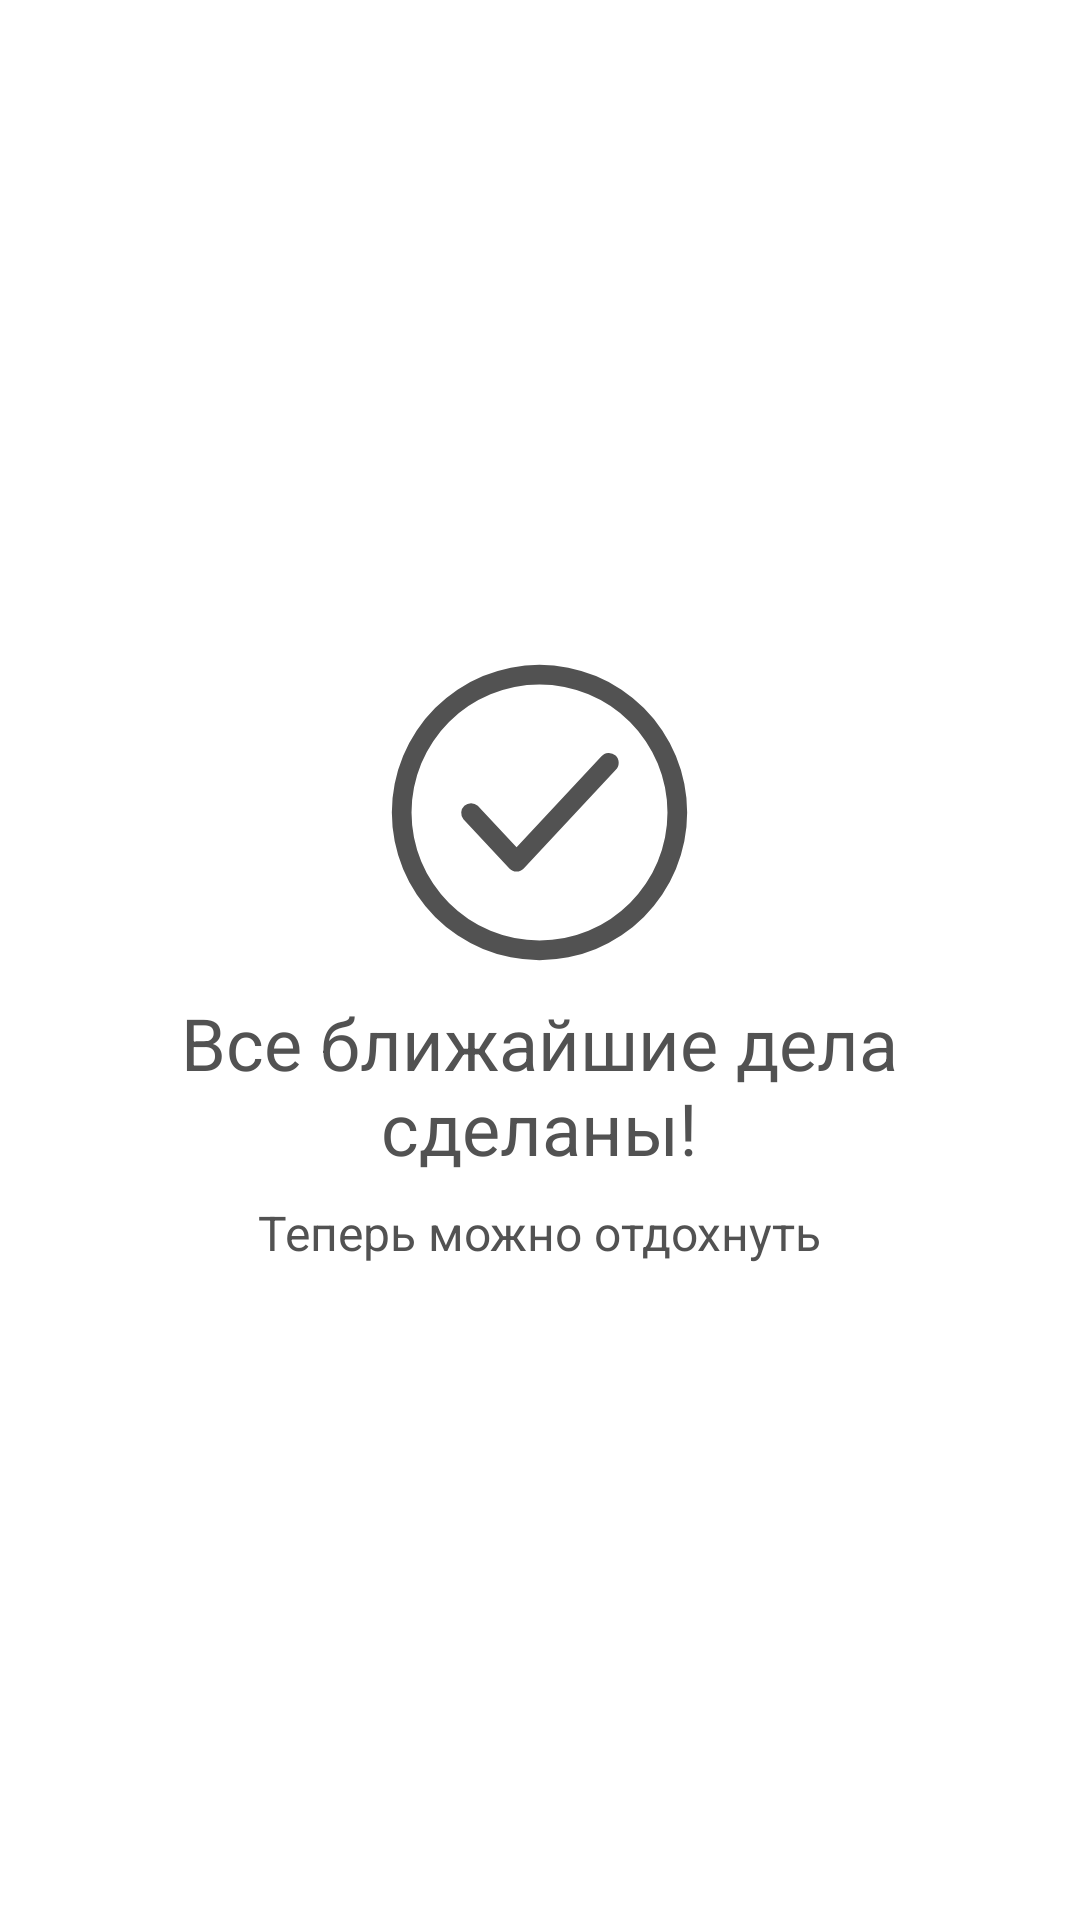

Named icons in this screenshot (1080×1920) and their bounding boxes, [left=x1, top=y1, right=x2, bottom=y2]:
all done: [left=391, top=664, right=687, bottom=961]
